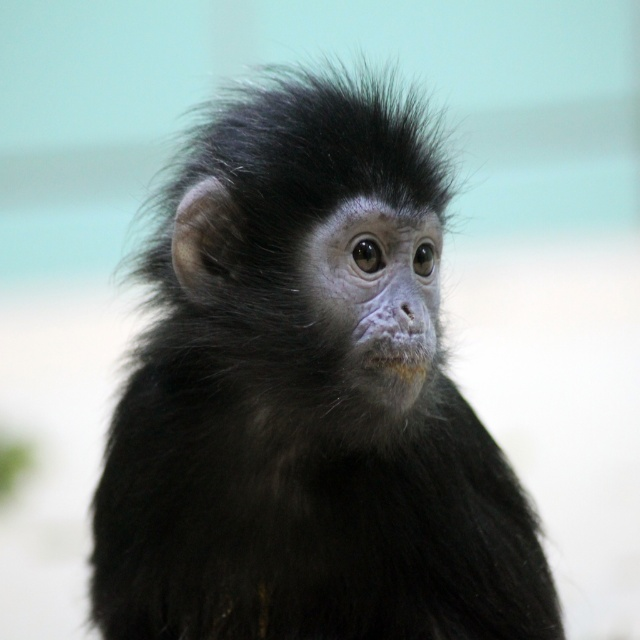Monkey: (70, 38, 569, 640)
